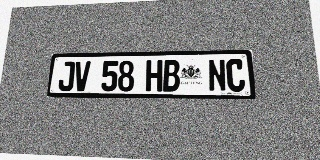5: (101, 61, 118, 91)
8: (117, 60, 135, 91)
B: (163, 60, 180, 92)
C: (226, 59, 246, 92)
H: (146, 60, 163, 91)
J: (58, 61, 75, 91)
N: (208, 59, 227, 92)
V: (73, 61, 91, 91)
